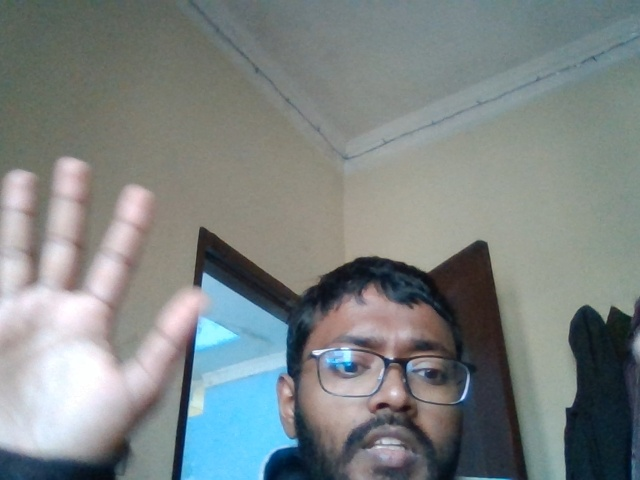Hello: (1, 131, 219, 473)
